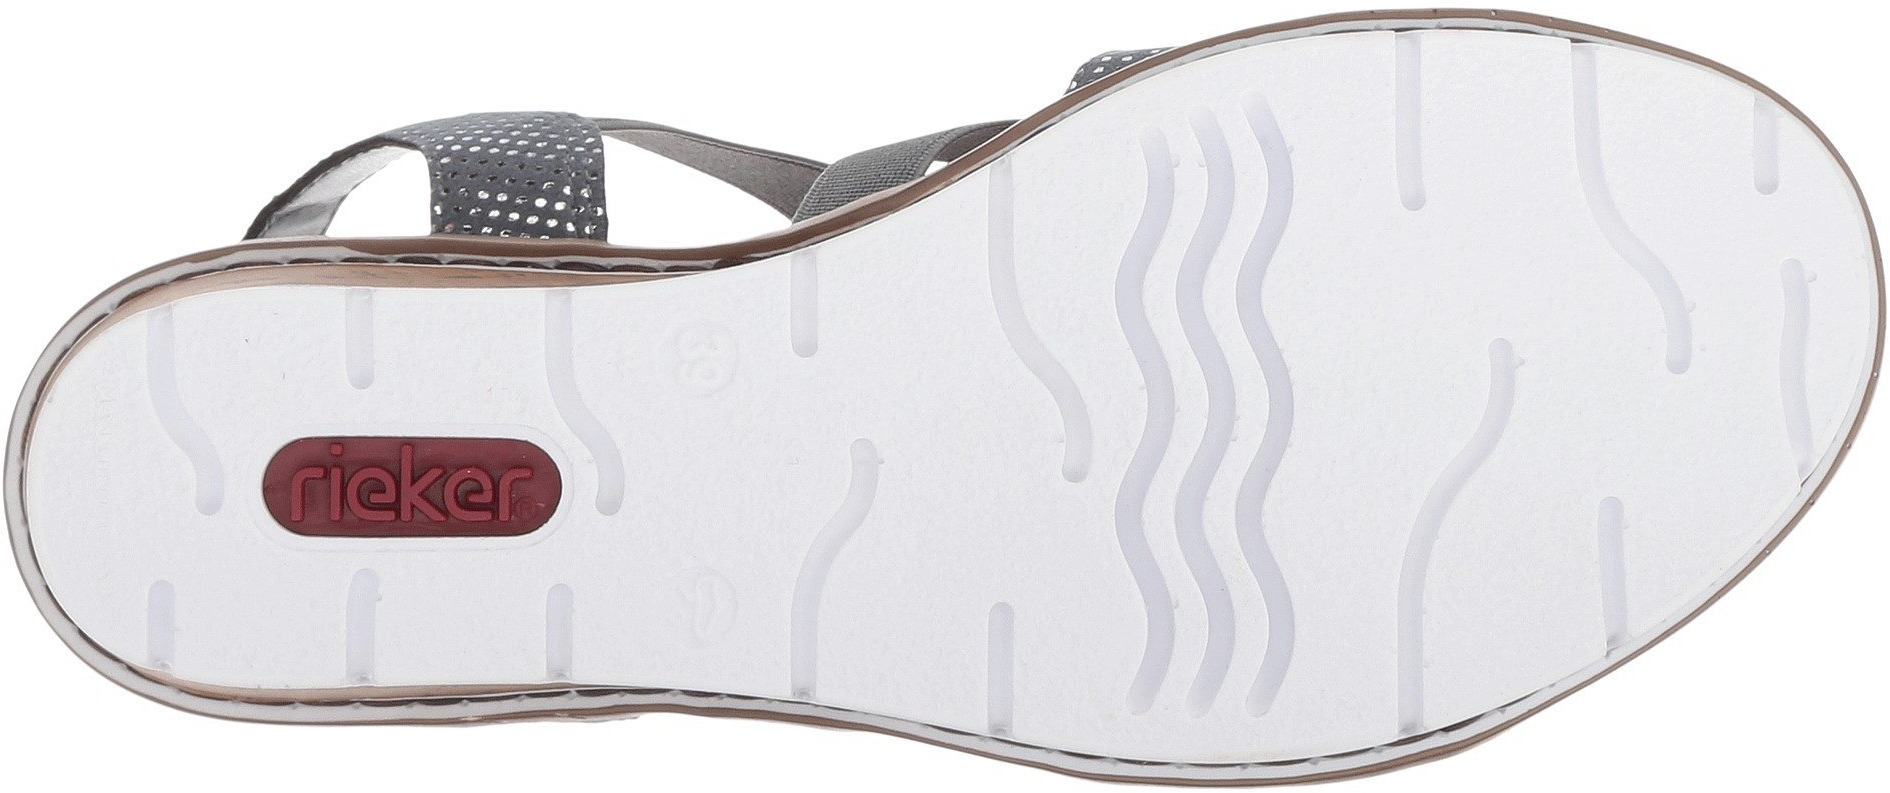chevron: (1396, 136, 1769, 529), (787, 368, 1096, 685), (1090, 157, 1369, 406), (1109, 428, 1345, 638)
circle: (646, 315, 755, 428)
text: (269, 442, 542, 542), (674, 328, 733, 406)
